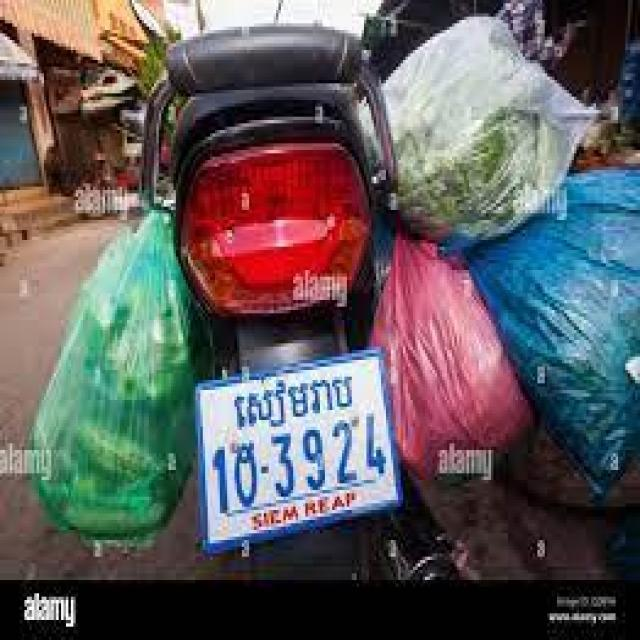Siem_Reap: (234, 373, 354, 430)
